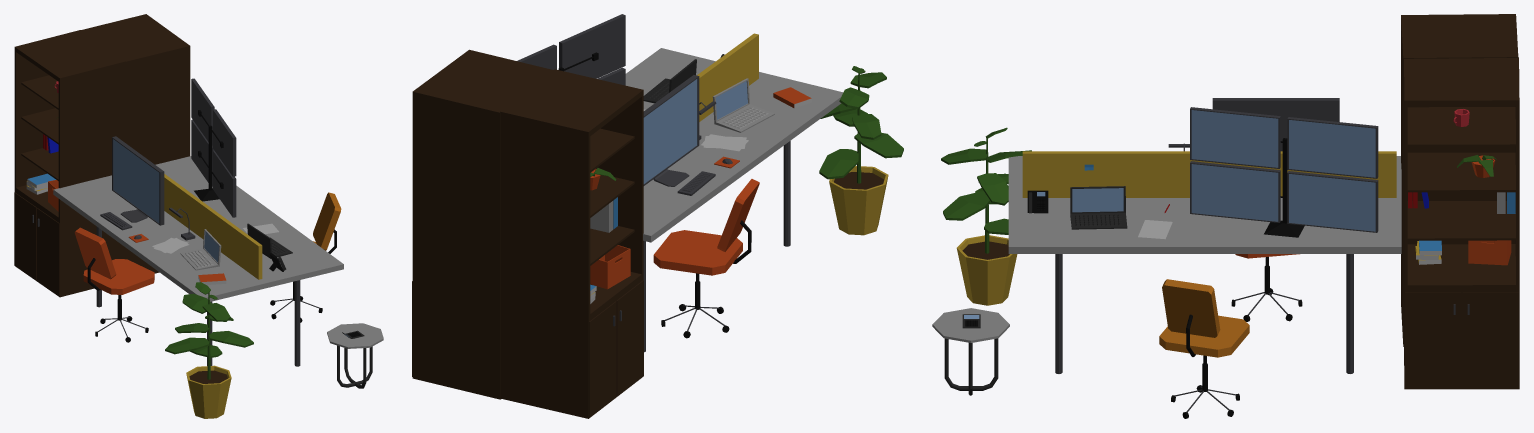
The model's file is Desk.obj.
3 views of the same model, side by side, from view 1: azimuth 30°, elevation 25°; view 2: azimuth 150°, elevation 25°; view 3: azimuth 270°, elevation 25° (orthographic). The views are drawn at different scales.
Visible parts, largest first — view 1: Cupboard.001_Plane.939, Table_Plane.035, Cupboard.001_Plane.001, Monitor_Set_Plane.1204, Monitor_Big.001_Plane.1200, Chair_Plane.925, Plant.002_Plane.869, Big_Pot.001_Plane.942, Coffee_Table_Small_Plane.111, Chair.001_Plane.899, Laptop_Plane.890, Laptop.001_Plane.881; view 2: Cupboard.001_Plane.939, Cupboard.001_Plane.001, Table_Plane.035, Chair_Plane.925, Monitor_Big.001_Plane.1200, Monitor_Set_Plane.1204, Plant.002_Plane.869, Big_Pot.001_Plane.942, Laptop_Plane.890, IJustGotFiredBox_Plane.927, Laptop.001_Plane.881, File.005_Plane.934 (+2 smaller); view 3: Cupboard.001_Plane.001, Table_Plane.035, Monitor_Set_Plane.1204, Cupboard.001_Plane.939, Chair.001_Plane.899, Big_Pot.001_Plane.942, Plant.002_Plane.869, Coffee_Table_Small_Plane.111, Monitor_Big.001_Plane.1200, Laptop.001_Plane.881, IJustGotFiredBox_Plane.001, Chair_Plane.925 (+1 smaller).
Boxes of the visible parts, x1,y1,x2,y2 form: Cupboard.001_Plane.939: (14, 30, 125, 297); Table_Plane.035: (53, 156, 343, 366); Cupboard.001_Plane.001: (81, 14, 190, 273); Monitor_Set_Plane.1204: (191, 78, 236, 217); Monitor_Big.001_Plane.1200: (112, 136, 164, 225); Chair_Plane.925: (74, 227, 154, 342); Plant.002_Plane.869: (165, 282, 253, 379); Big_Pot.001_Plane.942: (186, 365, 231, 418); Coffee_Table_Small_Plane.111: (327, 323, 383, 388); Chair.001_Plane.899: (270, 192, 341, 322); Laptop_Plane.890: (180, 229, 221, 270); Laptop.001_Plane.881: (247, 223, 292, 258); Cupboard.001_Plane.939: (500, 69, 643, 418); Cupboard.001_Plane.001: (412, 49, 553, 399); Table_Plane.035: (625, 33, 843, 352); Chair_Plane.925: (653, 179, 759, 338); Monitor_Big.001_Plane.1200: (643, 75, 699, 186); Monitor_Set_Plane.1204: (517, 14, 625, 85); Plant.002_Plane.869: (819, 66, 903, 183); Big_Pot.001_Plane.942: (829, 166, 888, 235); Laptop_Plane.890: (712, 78, 774, 132); IJustGotFiredBox_Plane.927: (590, 245, 630, 289); Laptop.001_Plane.881: (643, 59, 696, 103); File.005_Plane.934: (590, 201, 613, 232); Cupboard.001_Plane.001: (1404, 57, 1519, 389); Table_Plane.035: (1008, 151, 1401, 373); Monitor_Set_Plane.1204: (1190, 107, 1378, 237); Cupboard.001_Plane.939: (1401, 14, 1518, 346); Chair.001_Plane.899: (1159, 279, 1249, 418); Big_Pot.001_Plane.942: (956, 235, 1017, 305); Plant.002_Plane.869: (941, 127, 1031, 253); Coffee_Table_Small_Plane.111: (932, 308, 1009, 395); Monitor_Big.001_Plane.1200: (1212, 98, 1339, 151); Laptop.001_Plane.881: (1070, 186, 1127, 229); IJustGotFiredBox_Plane.001: (1468, 240, 1511, 265); Chair_Plane.925: (1231, 254, 1302, 321).
Bounding box in the file's own units: 11.85 × 10.07 × 18.45.
